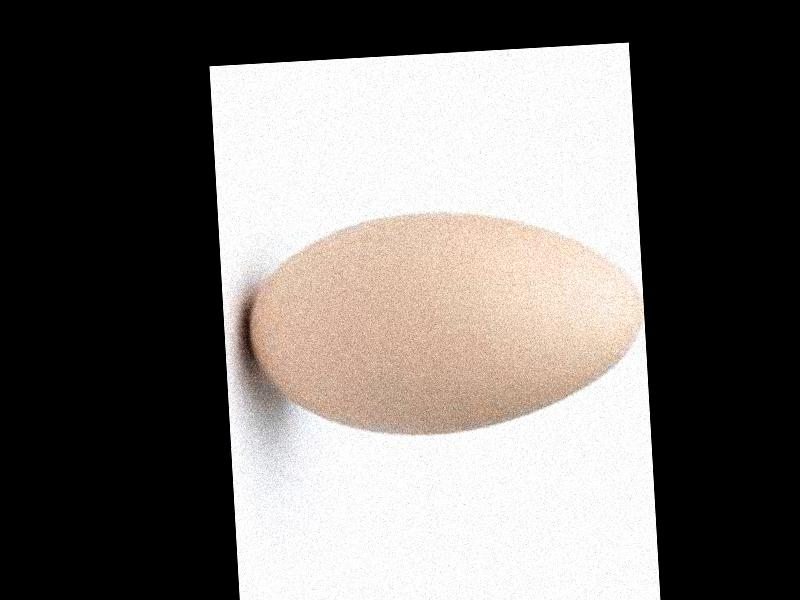Eggs: (240, 203, 647, 444)
